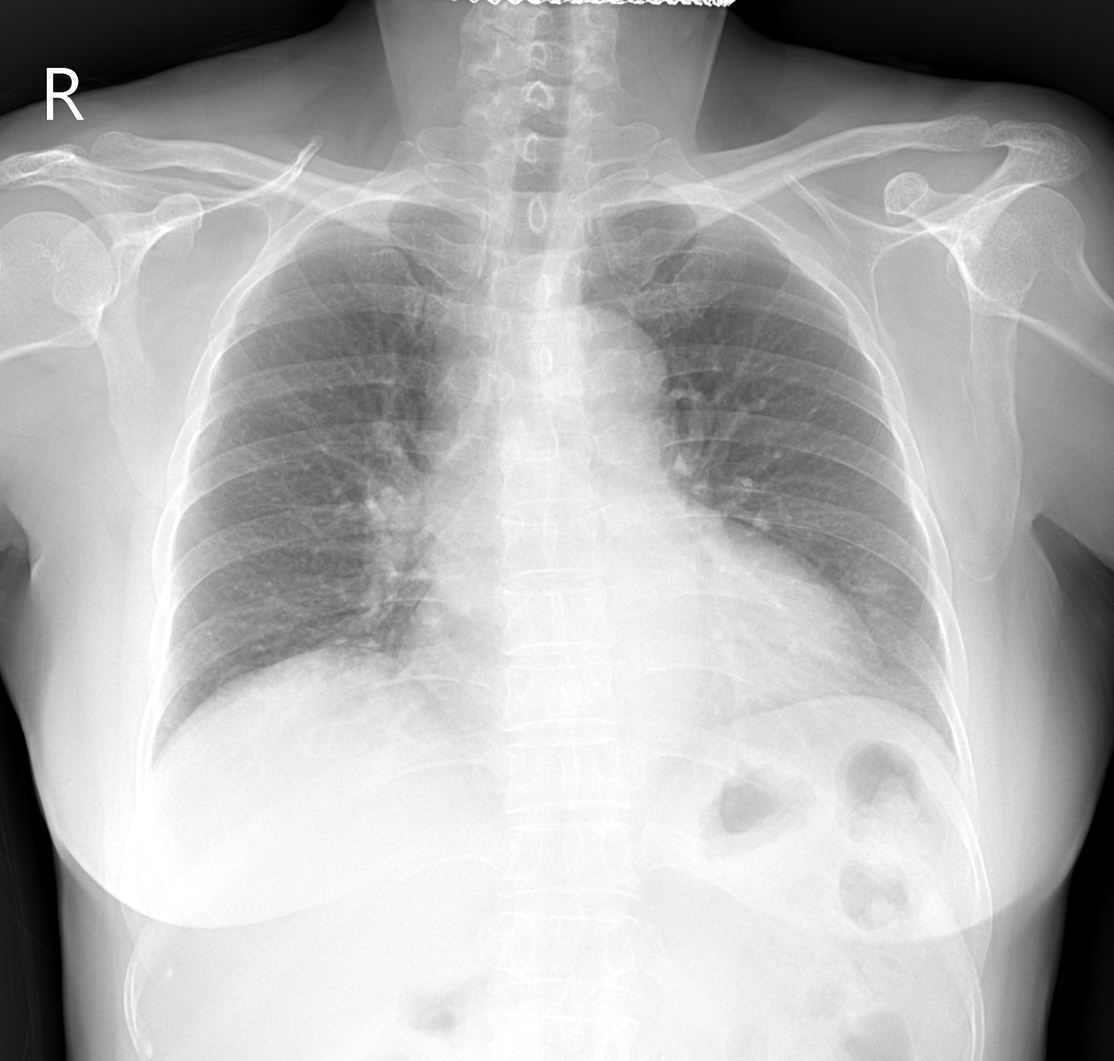Aortic enlargement: (532, 311, 667, 440)
Cardiomegaly: (402, 597, 885, 685)
